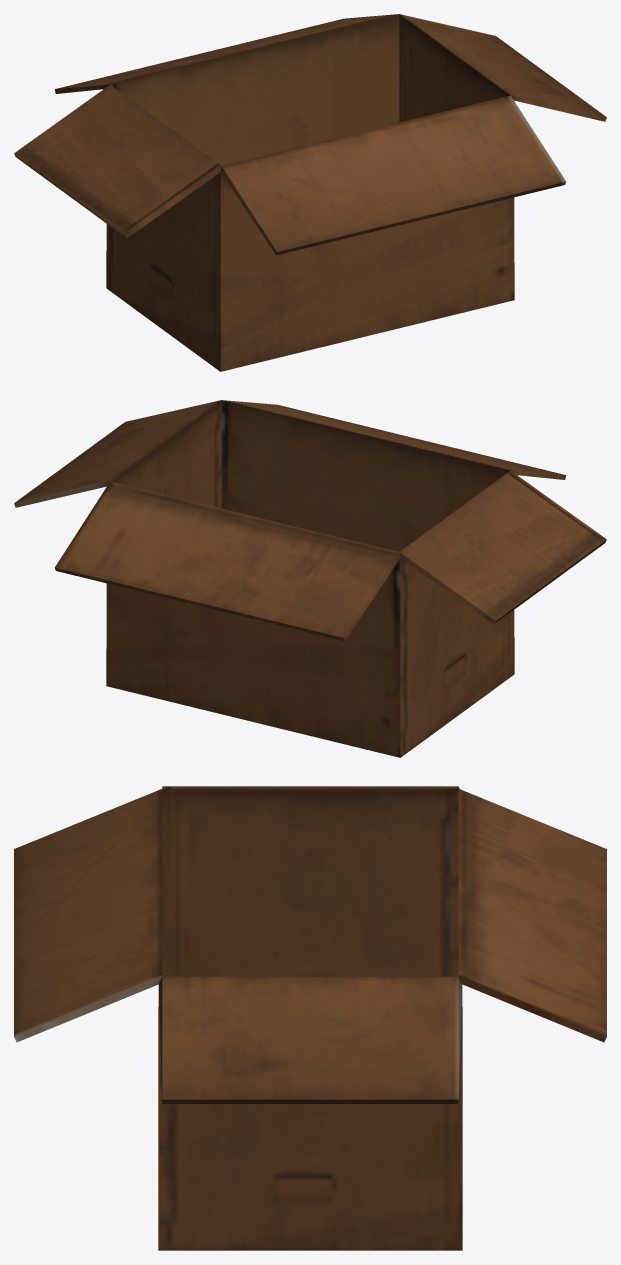
Rendered from Open_box_A.fbx.
3 renders of one model, top to bottom at view 1: azimuth 30°, elevation 25°; view 2: azimuth 150°, elevation 25°; view 3: azimuth 270°, elevation 25°, orthographic. The views are drawn at different scales.
Parts seen in each view (by area): view 1: Open_box_A; view 2: Open_box_A; view 3: Open_box_A.
Boxes of the visible parts, x1,y1,x2,y2 form: Open_box_A: (14,14,606,371); Open_box_A: (14,400,606,757); Open_box_A: (14,786,606,1250).
Bounding box in the file's own units: 305 × 124 × 244.
1 material, 1 textured.
